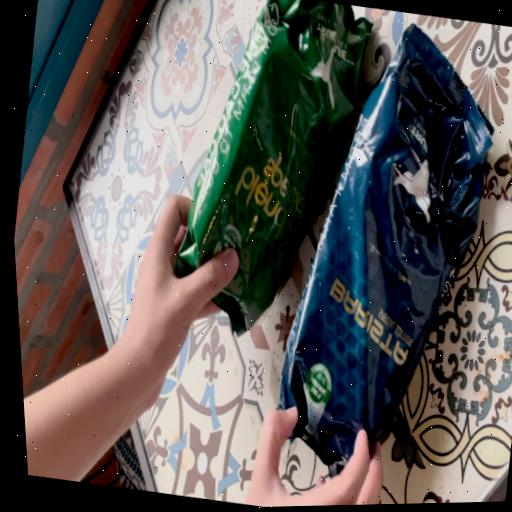cafe_hat: (280, 23, 492, 475)
cafe_xay: (174, 0, 372, 334)
